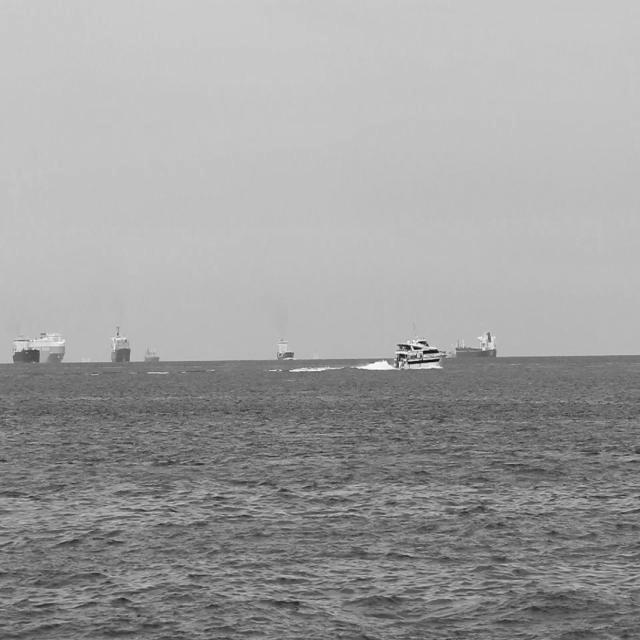ship: (388, 336, 446, 370), (5, 330, 65, 362), (442, 324, 494, 360), (111, 317, 130, 365), (10, 336, 38, 364), (272, 329, 294, 357), (141, 338, 159, 363)
